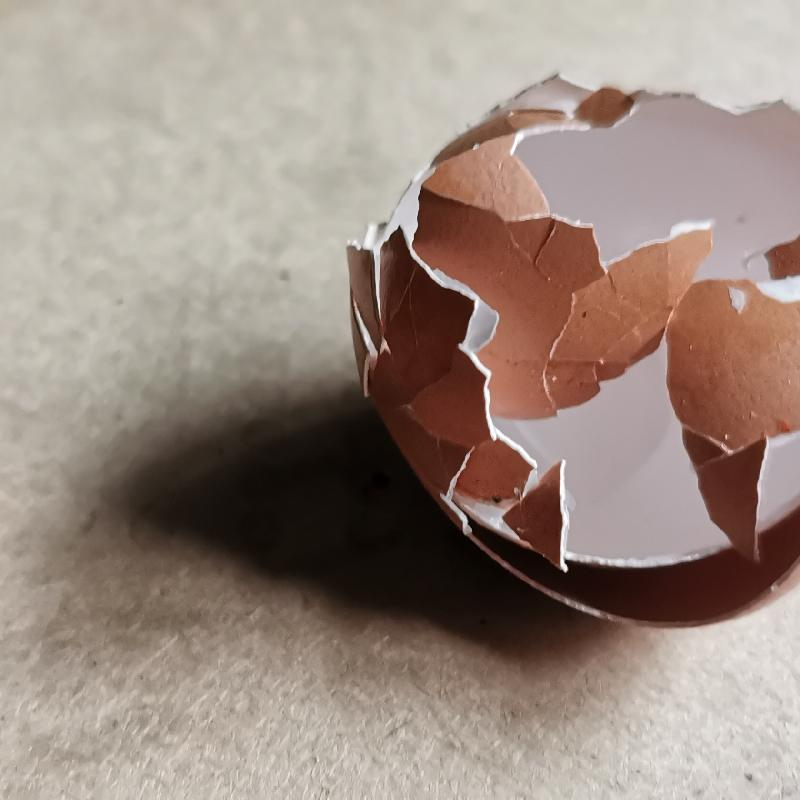eggshell: (340, 74, 800, 639)
